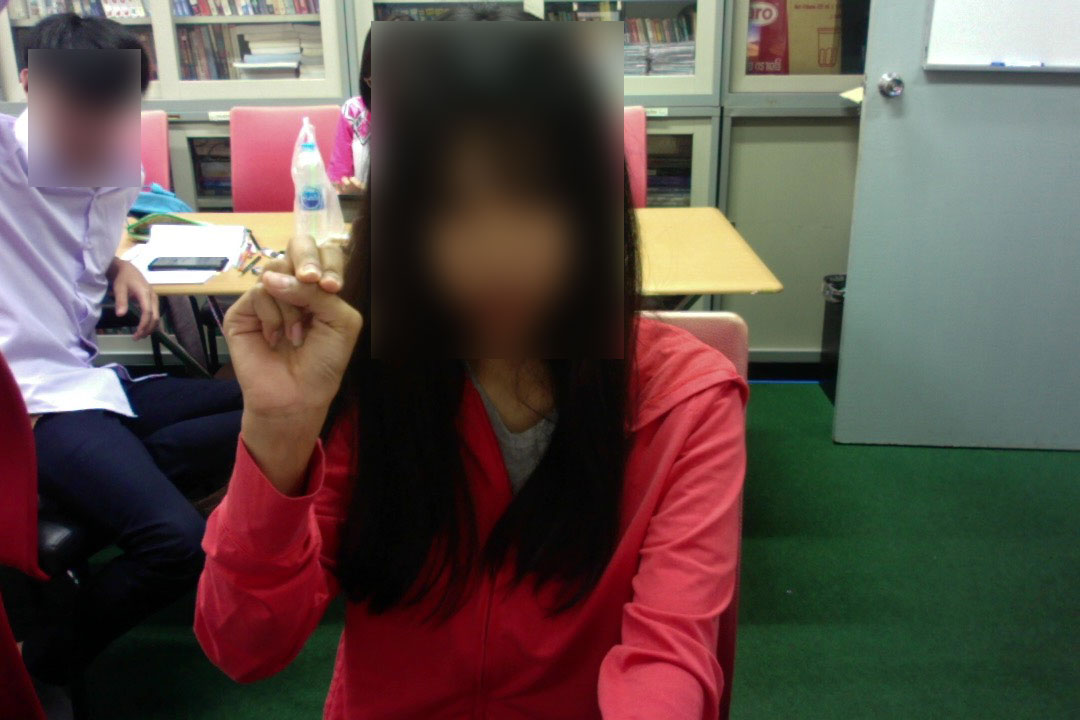nor: (217, 230, 368, 445)
